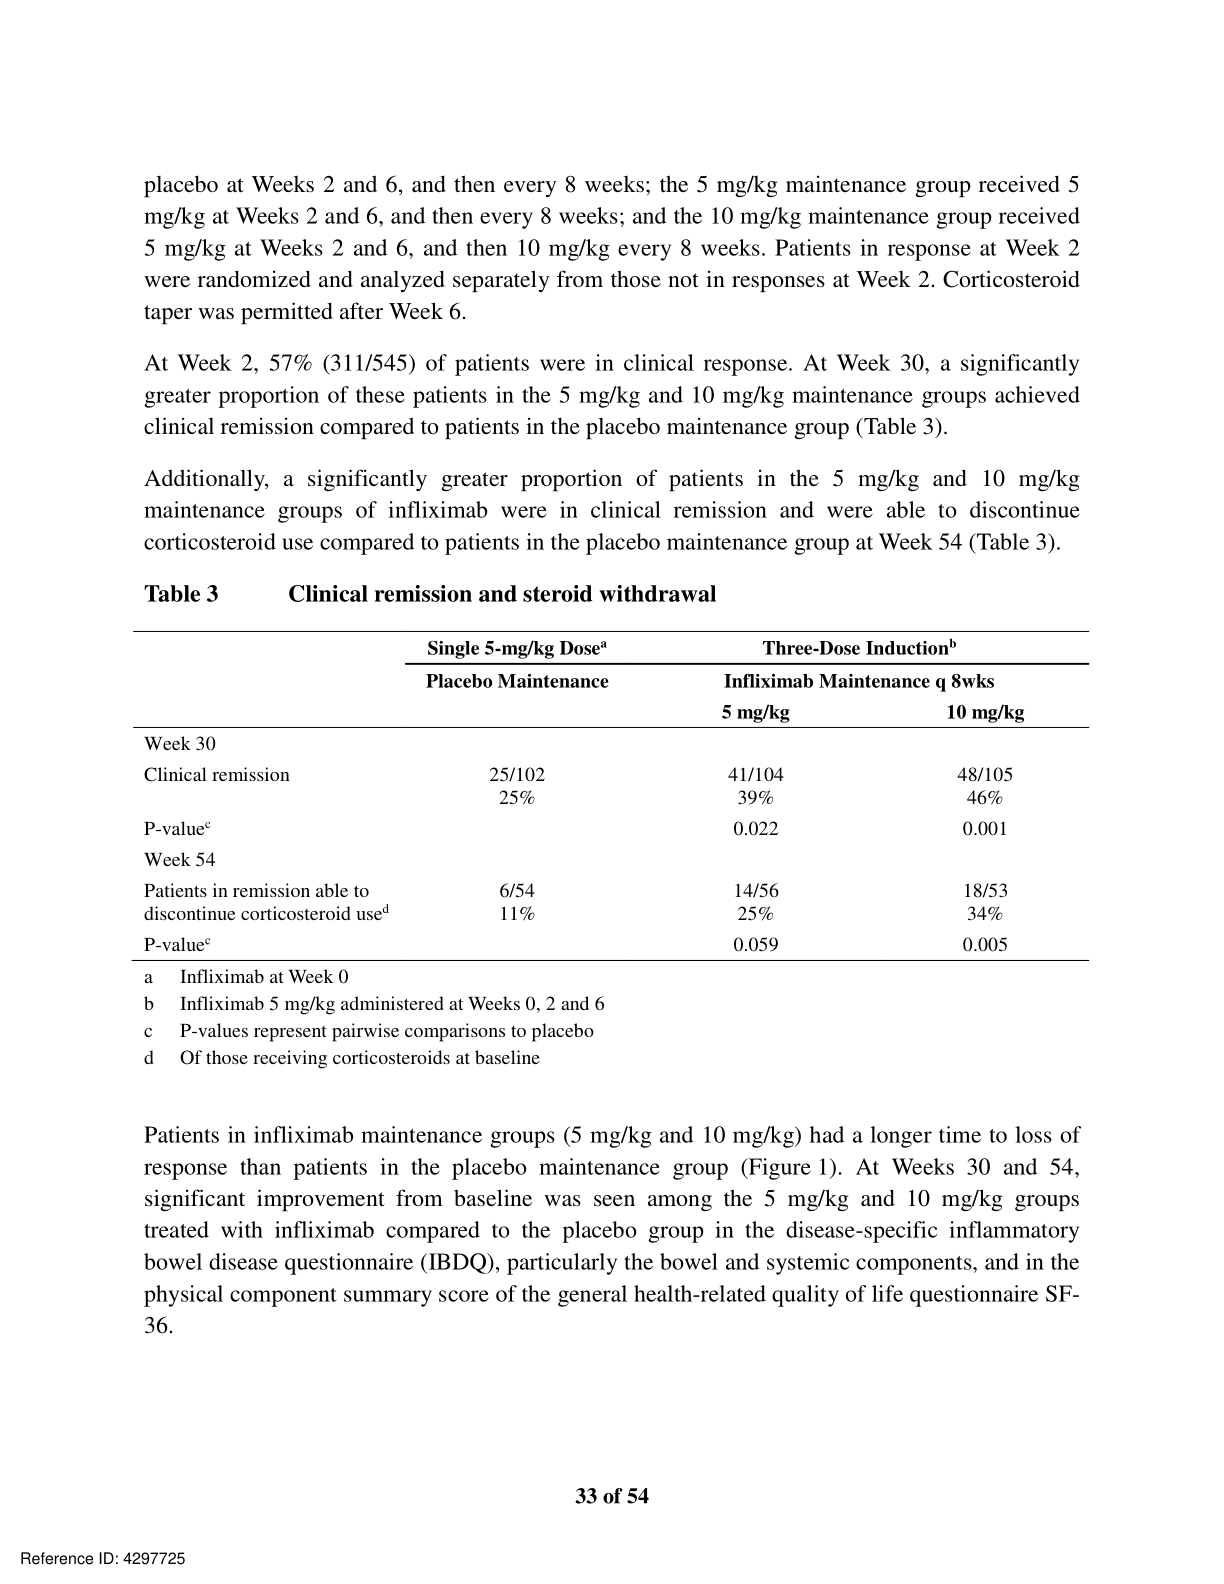partial_lined_merged_cells: (132, 630, 1089, 962)
